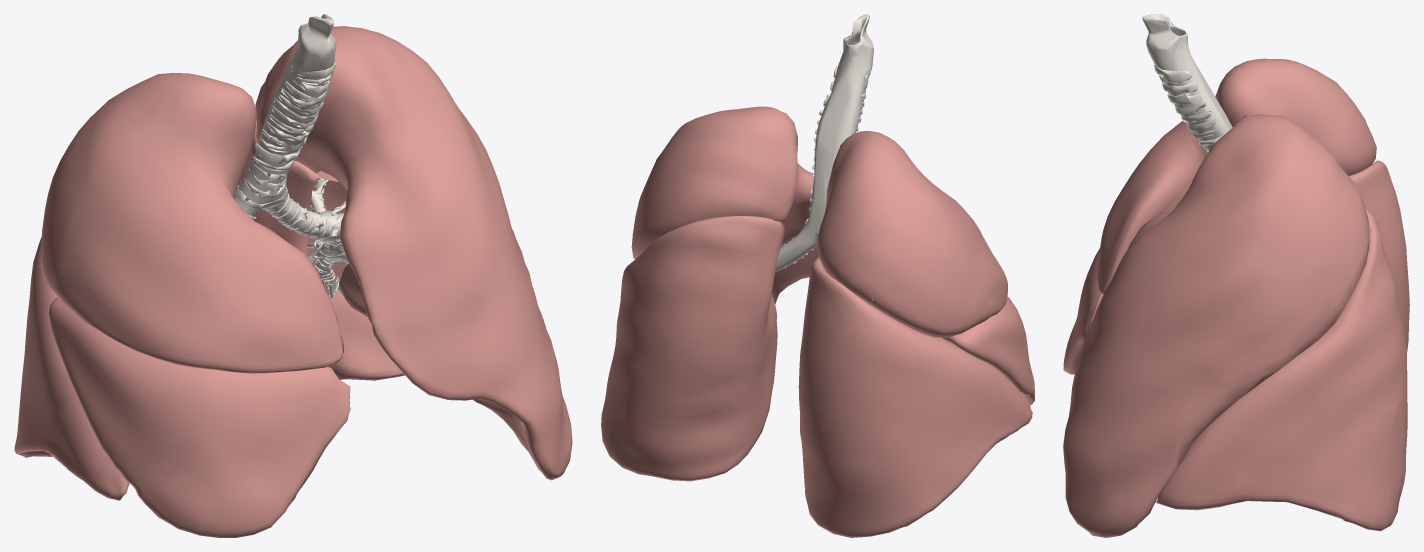
The model's file is lungs.glb.
The picture shows the model from 3 angles, left to right: view 1: azimuth 30°, elevation 25°; view 2: azimuth 150°, elevation 25°; view 3: azimuth 270°, elevation 25°; orthographic projection. The views are drawn at different scales.
Parts seen in each view (by area): view 1: Lung_right, Lung_left, Bronchial_tree; view 2: Lung_right, Lung_left, Bronchial_tree; view 3: Lung_left, Lung_right, Bronchial_tree.
Boxes of the visible parts, x1,y1,x2,y2 form: Lung_right: (14, 73, 350, 537); Lung_left: (238, 26, 572, 480); Bronchial_tree: (234, 14, 348, 299); Lung_right: (798, 131, 1034, 537); Lung_left: (601, 106, 818, 481); Bronchial_tree: (775, 14, 873, 300); Lung_left: (1063, 114, 1407, 537); Lung_right: (1063, 58, 1409, 374); Bronchial_tree: (1142, 14, 1232, 154).
Bounding box in the file's own units: 1.89 × 2 × 1.38.
